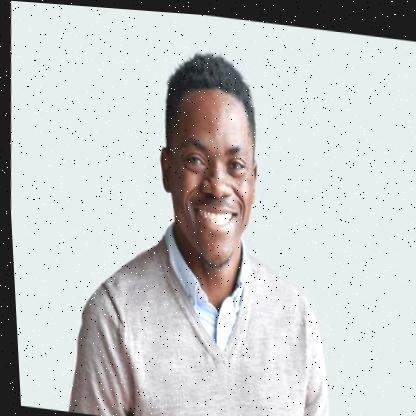person: (49, 30, 373, 416)
